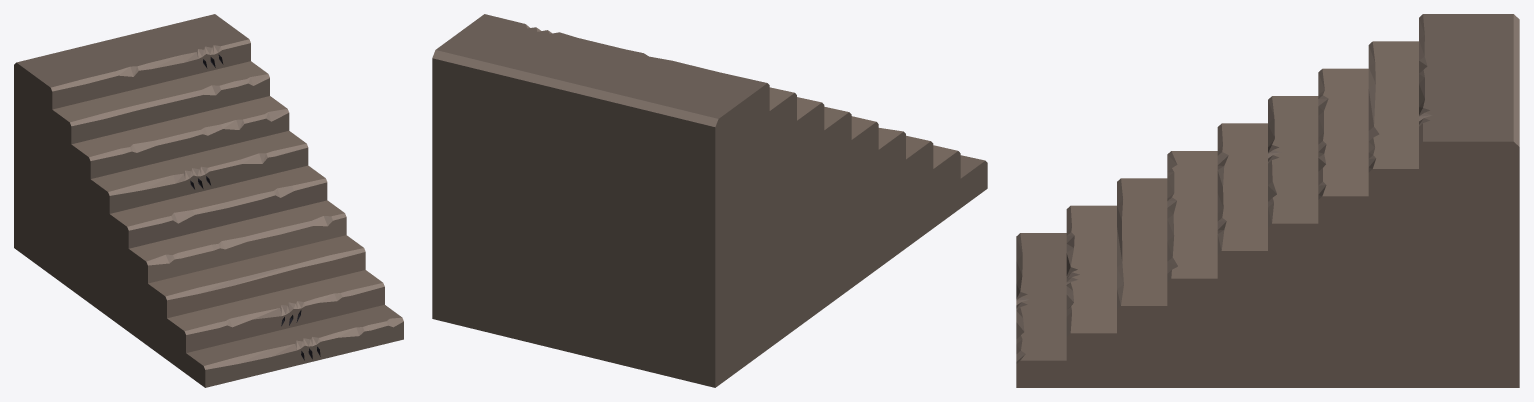
File: stage4_lair_stone_stair.glb
The picture shows the model from 3 angles, left to right: view 1: azimuth 30°, elevation 25°; view 2: azimuth 150°, elevation 25°; view 3: azimuth 270°, elevation 25°; orthographic projection. The views are drawn at different scales.
Parts seen in each view (by area): view 1: stair-body; view 2: stair-body; view 3: stair-body.
Boxes of the visible parts, x1,y1,x2,y2 form: stair-body: (14,14,403,387); stair-body: (432,14,987,387); stair-body: (1016,14,1519,387).
Bounding box in the file's own units: 3 × 2.7 × 5.
